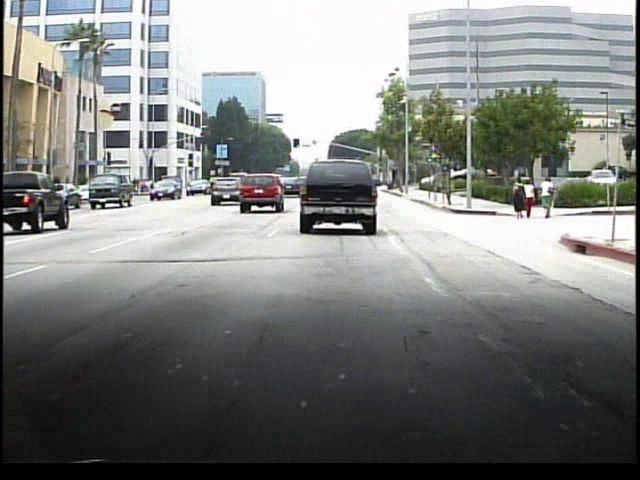person: (538, 175, 556, 220), (510, 176, 524, 220), (523, 179, 536, 221)
